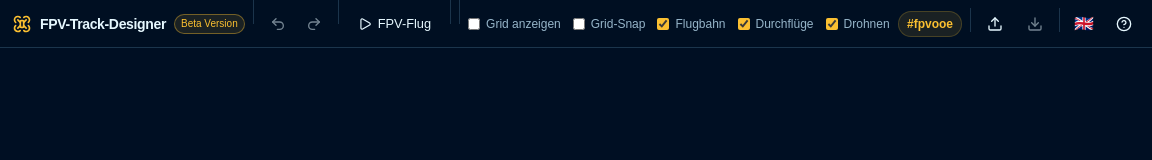
Test case: TopBar › switches header labels to English via the language toggle
What coordinates should you click on to do the following:
click the button named "Sprache auf Englisch umstellen"
I would click on:
 (1084, 24)
Its box is [1068,8,1100,40].
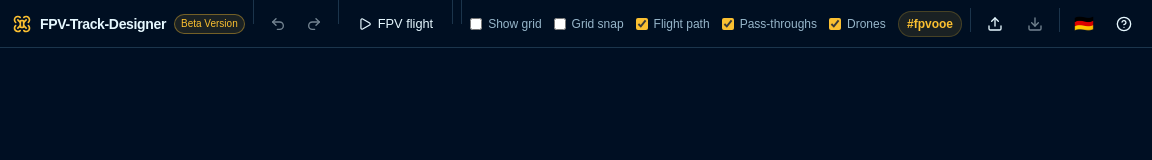
Expected: the button named "Switch language to German" is shown, [1068,8,1100,40]
